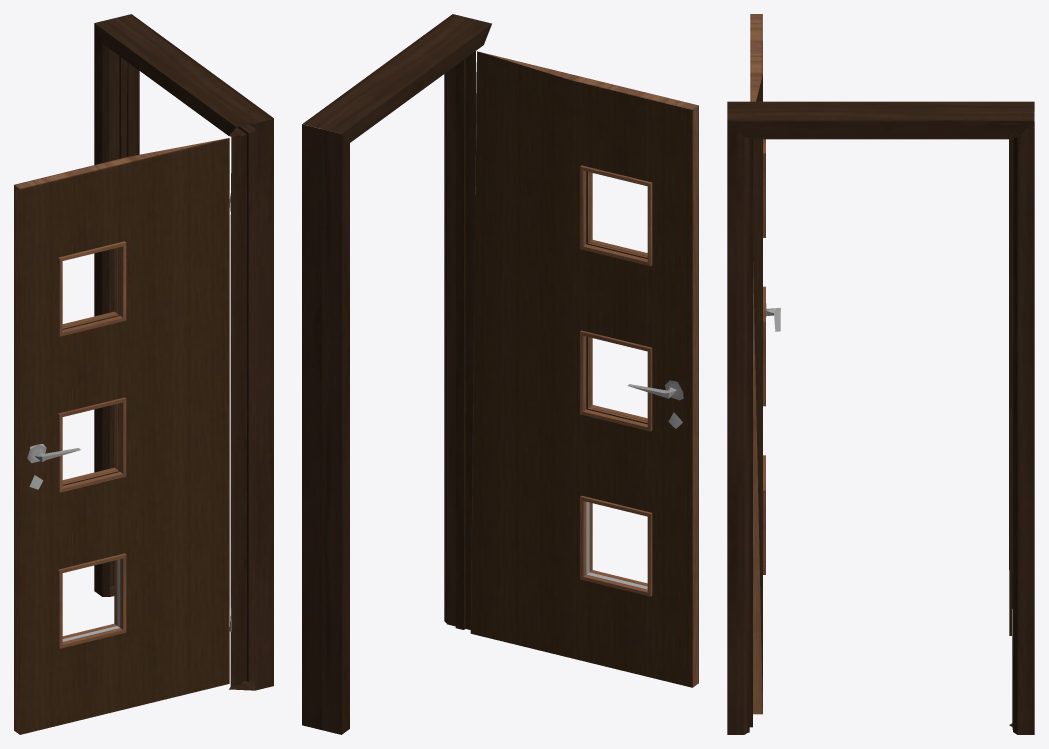
File: Door0026open.obj
3 renders of one model, left to right at view 1: azimuth 30°, elevation 25°; view 2: azimuth 150°, elevation 25°; view 3: azimuth 270°, elevation 25°, orthographic. The views are drawn at different scales.
Size of the model in its own units: 0.951 by 2.12 by 0.964.
1 material, 1 textured.
